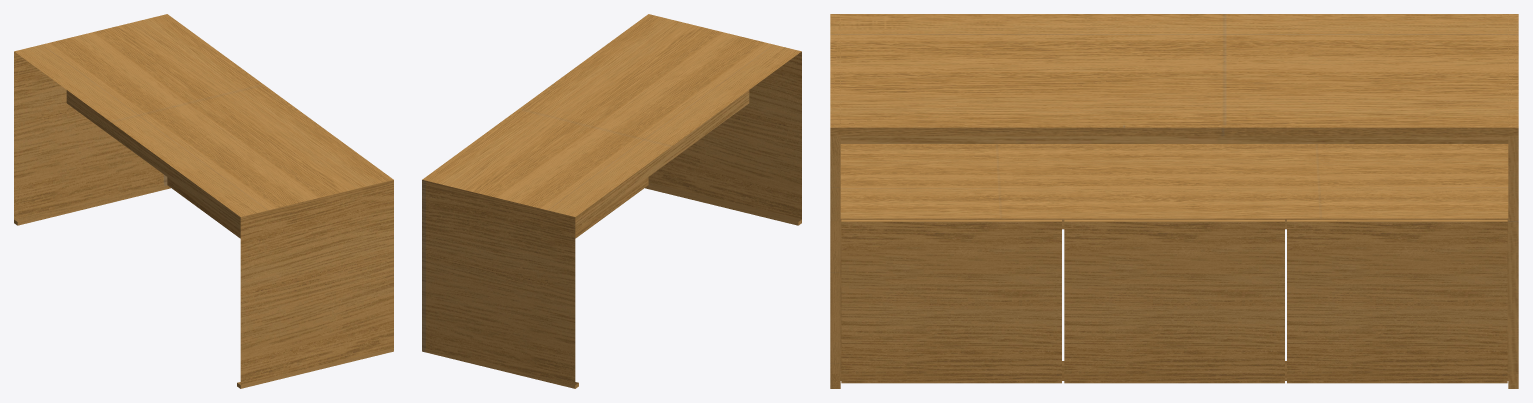
Rendered from Mueble tv.fbx.
3 renders of one model, left to right at view 1: azimuth 30°, elevation 25°; view 2: azimuth 150°, elevation 25°; view 3: azimuth 270°, elevation 25°, orthographic. The views are drawn at different scales.
Visible parts, largest first — view 1: Mueble; view 2: Mueble; view 3: Mueble, Puertas.
Part boxes in pixels (<box>): Mueble: <box>14,14,393,388</box>; Mueble: <box>422,14,801,388</box>; Mueble: <box>830,14,1518,388</box>; Puertas: <box>841,219,1507,383</box>.
Size of the model in its own units: 1634 by 1749 by 4176.
